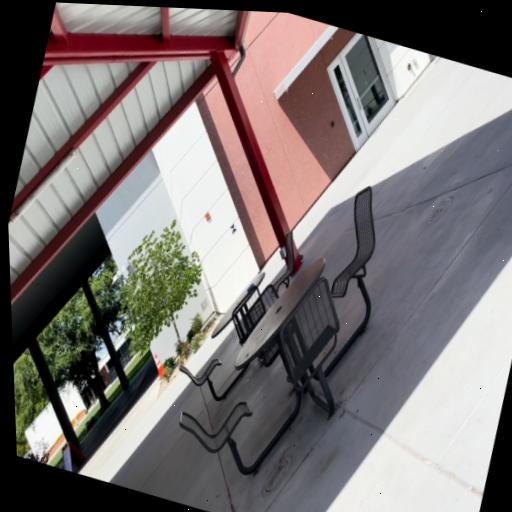target9: (230, 222, 238, 235)
